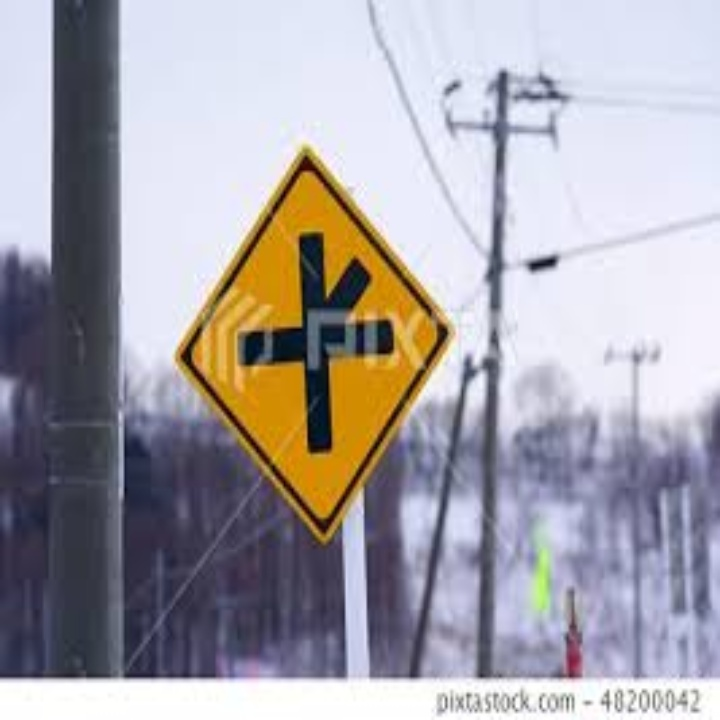inter: (226, 219, 401, 465)
